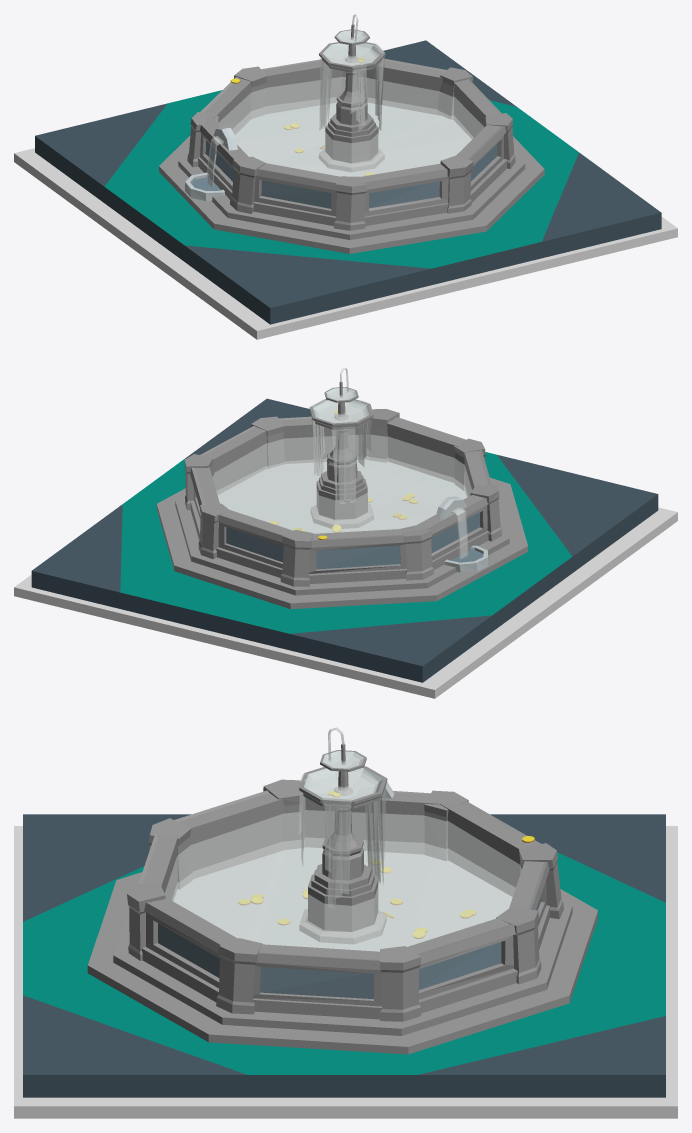
The model's file is daiphunnuoc.glb.
3 renders of one model, top to bottom at view 1: azimuth 30°, elevation 25°; view 2: azimuth 150°, elevation 25°; view 3: azimuth 270°, elevation 25°, orthographic. The views are drawn at different scales.
Parts seen in each view (by area): view 1: group558070164, Cube; view 2: group558070164, Cube; view 3: group558070164, Cube.
Part boxes in pixels (<box>): group558070164: <box>35,14,661,324</box>; Cube: <box>14,148,677,339</box>; group558070164: <box>31,368,658,682</box>; Cube: <box>14,507,677,698</box>; group558070164: <box>23,727,665,1097</box>; Cube: <box>14,826,677,1118</box>.
Size of the model in its own units: 10 by 4.23 by 10.
